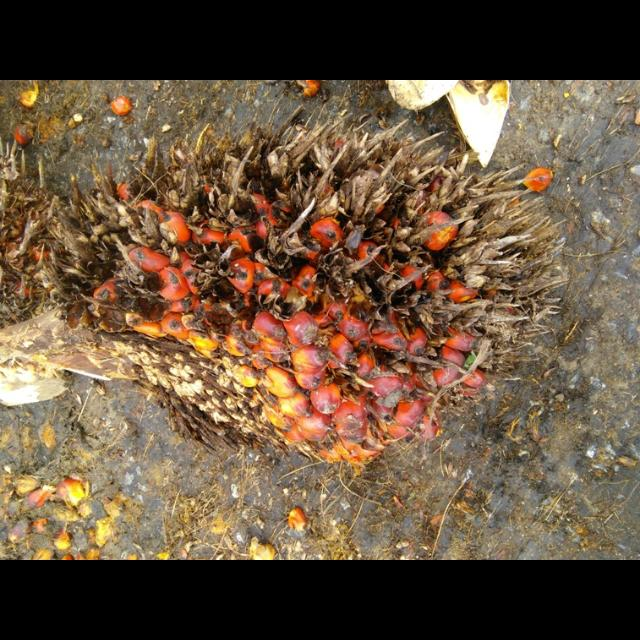Overripe: (68, 147, 538, 464)
